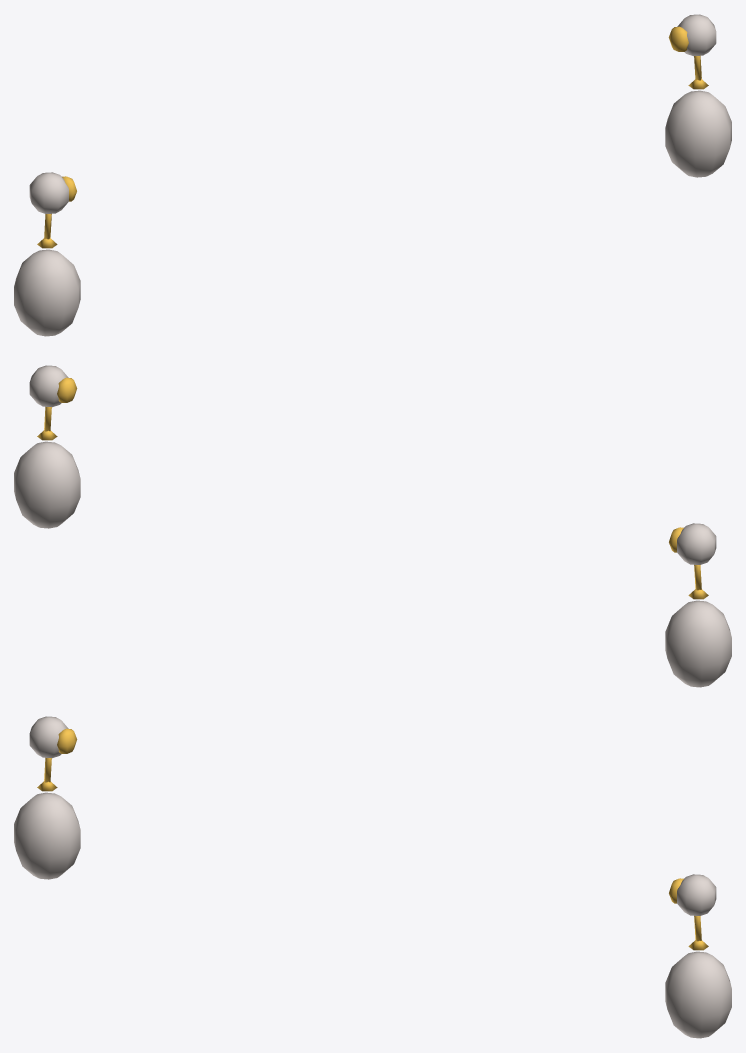
The model's file is pearl_drop_earrings.glb.
The picture shows the model from 3 angles, top to bottom: view 1: azimuth 30°, elevation 25°; view 2: azimuth 150°, elevation 25°; view 3: azimuth 330°, elevation 25°; orthographic projection.
Visible parts, largest first — view 1: pearl_drop_earrings; view 2: pearl_drop_earrings; view 3: pearl_drop_earrings.
Part boxes in pixels (left/top/right/bottom): pearl_drop_earrings: left=14, top=14, right=731, bottom=336; pearl_drop_earrings: left=14, top=365, right=731, bottom=687; pearl_drop_earrings: left=14, top=716, right=731, bottom=1038.
Size of the model in its own units: 0.2366 by 0.0511 by 0.0197.
